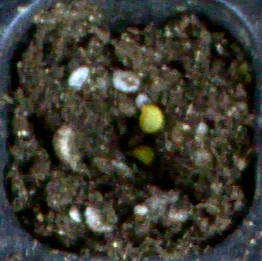pepper seed: (52, 61, 209, 227), (56, 36, 221, 169)
